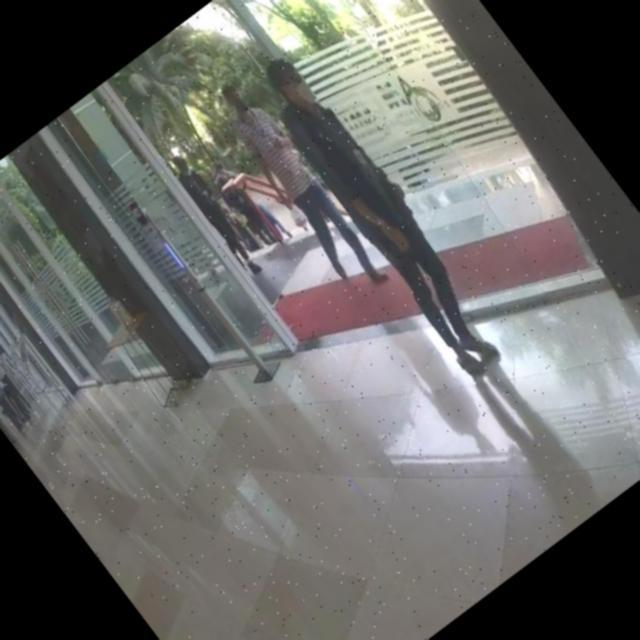person: (243, 48, 518, 386), (202, 75, 392, 308), (164, 148, 270, 279)
